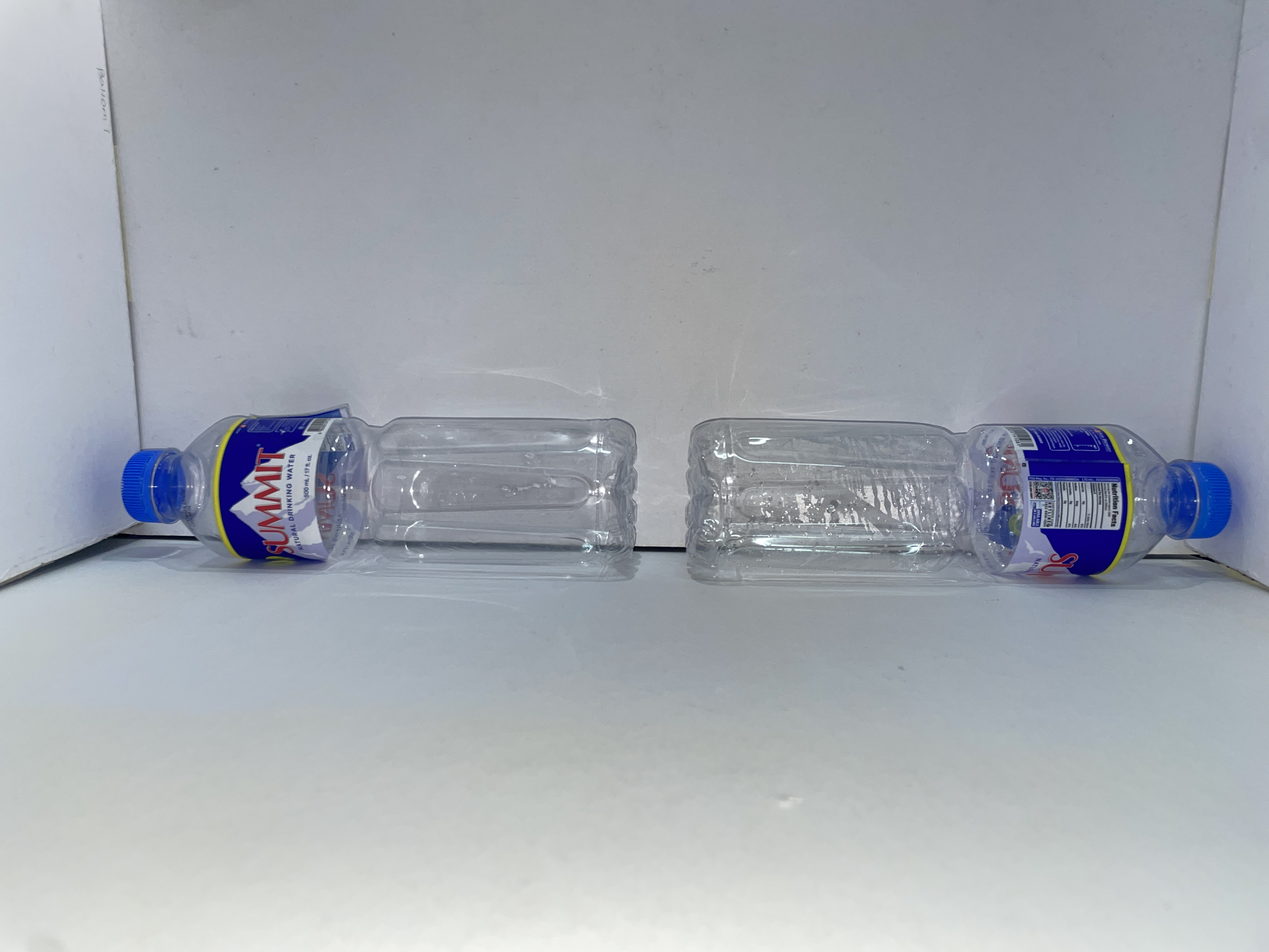Summit 500mL: (686, 419, 1231, 581), (121, 410, 637, 575)
